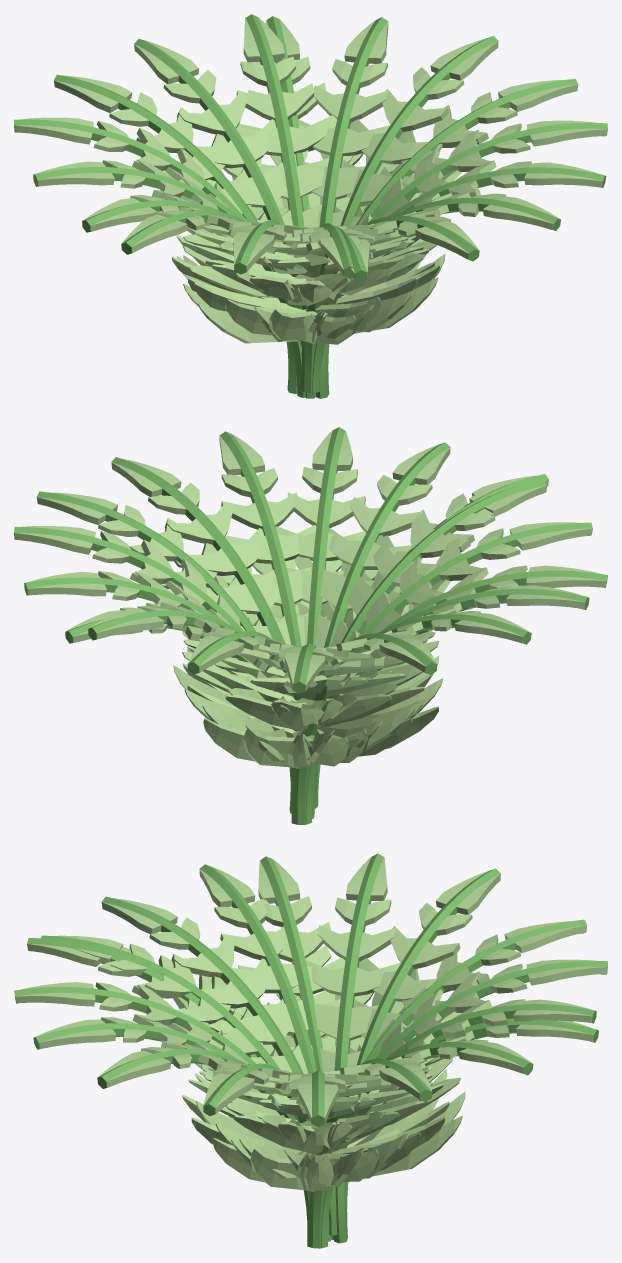
The model's file is FernSmall.fbx.
3 renders of one model, top to bottom at view 1: azimuth 30°, elevation 25°; view 2: azimuth 150°, elevation 25°; view 3: azimuth 270°, elevation 25°, orthographic.
Visible parts, largest first — view 1: pCylinder8, pCylinder9, pCylinder4, pCylinder5, pCylinder7, pCylinder6; view 2: pCylinder4, pCylinder6, pCylinder5, pCylinder8, pCylinder7, pCylinder9; view 3: pCylinder7, pCylinder6, pCylinder8, pCylinder4, pCylinder9, pCylinder5.
Part boxes in pixels (x1=…): pCylinder8: x1=54, y1=14, x2=421, y2=398; pCylinder9: x1=183, y1=16, x2=498, y2=398; pCylinder4: x1=305, y1=78, x2=607, y2=368; pCylinder5: x1=194, y1=188, x2=560, y2=393; pCylinder7: x1=14, y1=117, x2=356, y2=393; pCylinder6: x1=121, y1=207, x2=434, y2=386; pCylinder4: x1=36, y1=431, x2=341, y2=732; pCylinder6: x1=307, y1=480, x2=607, y2=763; pCylinder5: x1=187, y1=427, x2=548, y2=808; pCylinder8: x1=88, y1=602, x2=438, y2=818; pCylinder7: x1=203, y1=585, x2=589, y2=824; pCylinder9: x1=14, y1=526, x2=350, y2=813; pCylinder7: x1=205, y1=853, x2=500, y2=1243; pCylinder6: x1=41, y1=864, x2=426, y2=1235; pCylinder8: x1=304, y1=919, x2=607, y2=1241; pCylinder4: x1=97, y1=1041, x2=444, y2=1205; pCylinder9: x1=212, y1=1018, x2=598, y2=1248; pCylinder5: x1=14, y1=938, x2=338, y2=1228.
Bounding box in the file's own units: 152 × 74.51 × 149.
